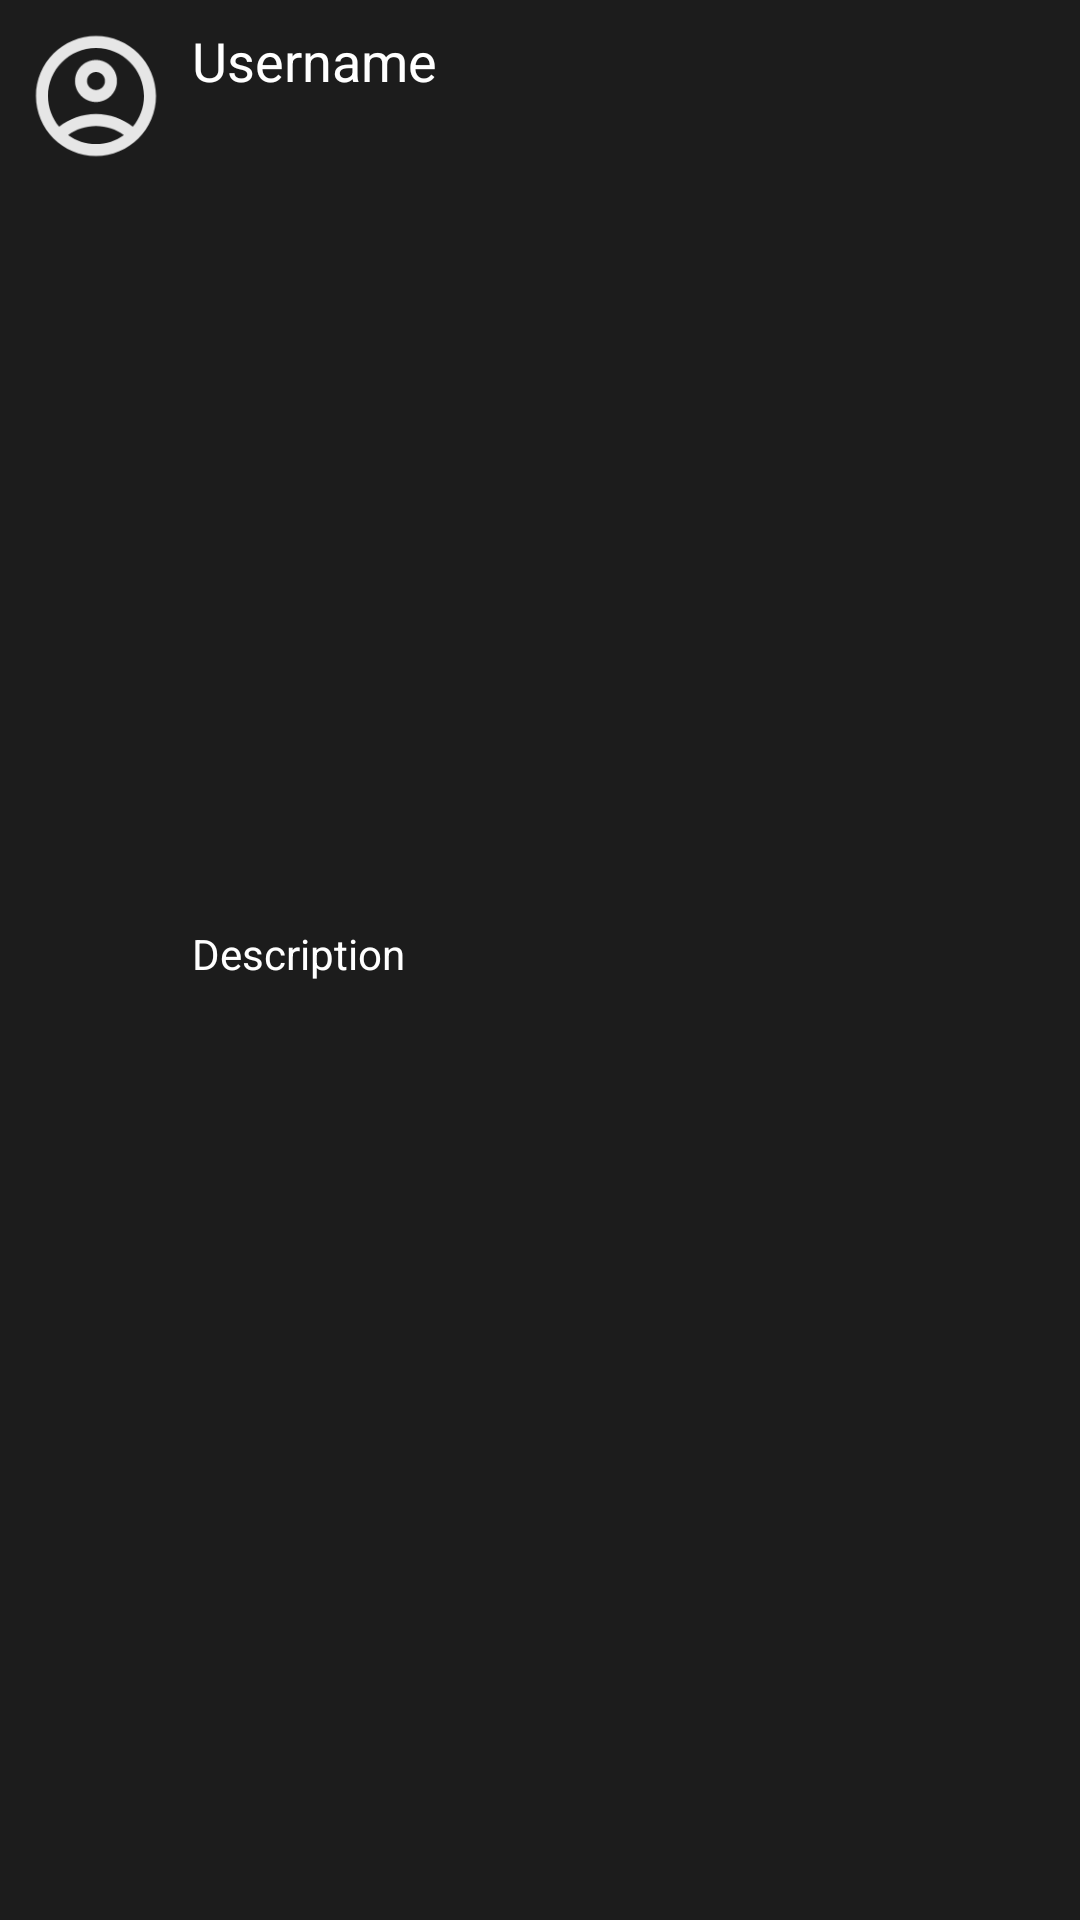

Named icons in this screenshot (1080*1920) and their centers, [x,y]:
account circle: [96,96]
